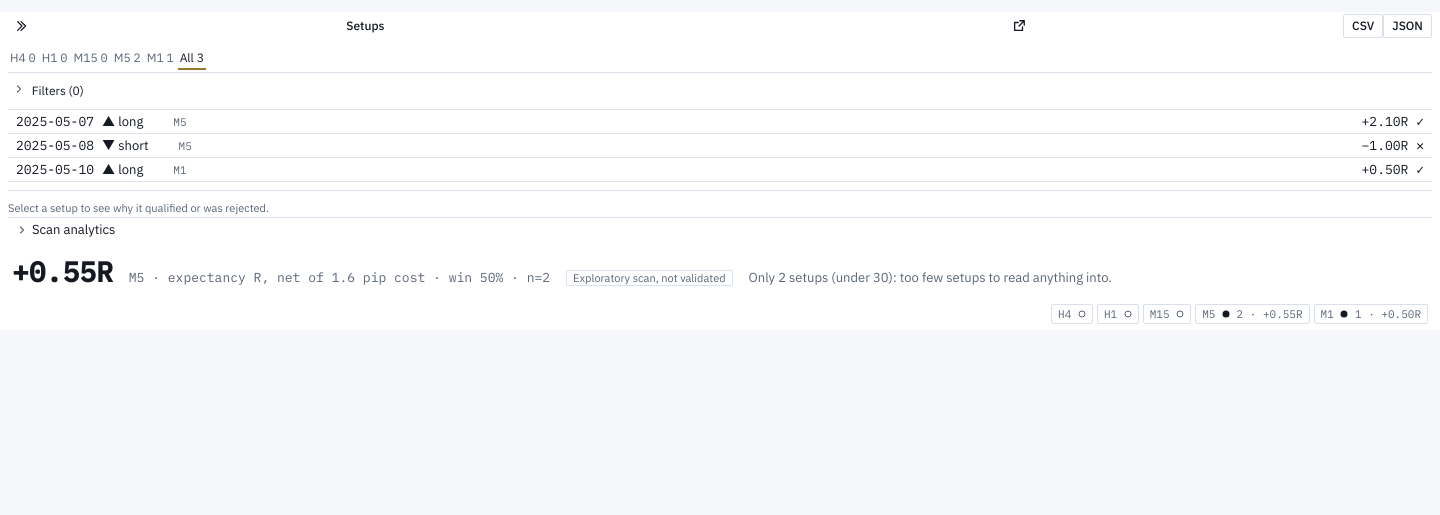
Scenario: setup browser › an empty filter result says what to change
Click the button "Filters (0)": {"x": 48, "y": 91} top-left (8, 81), bottom-right (89, 101)
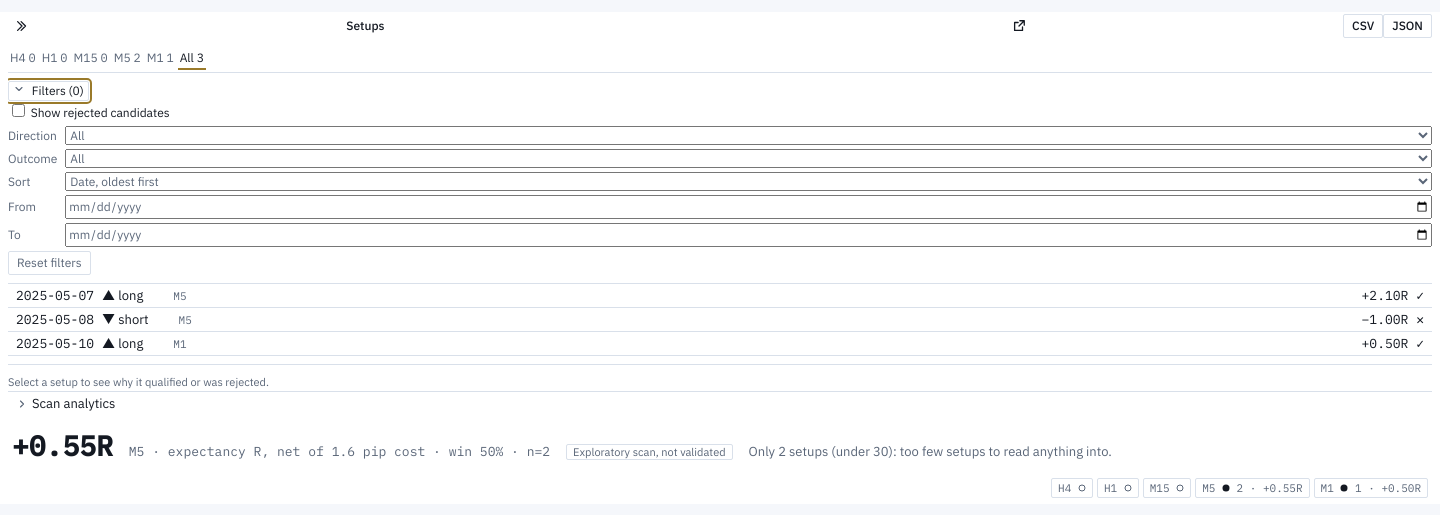
Select "Flat" in the dropdown labelled "Outcome": {"x": 749, "y": 158} top-left (65, 149), bottom-right (1432, 168)
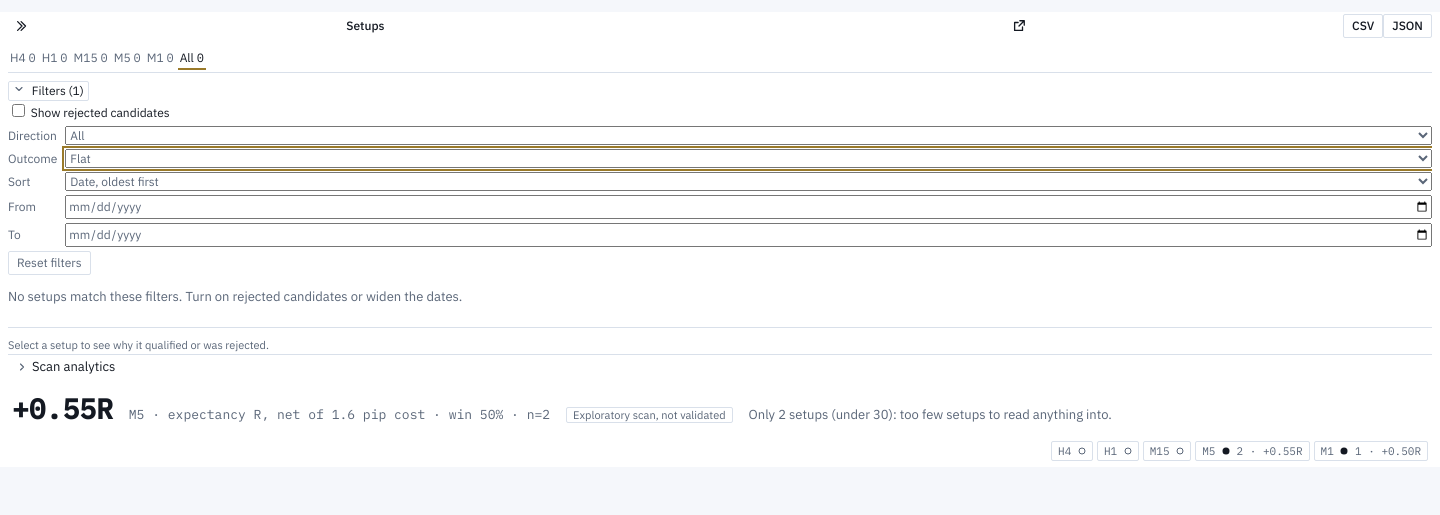
Result: the text "No setups match these filters" is shown at top-left (8, 288), bottom-right (462, 305)
